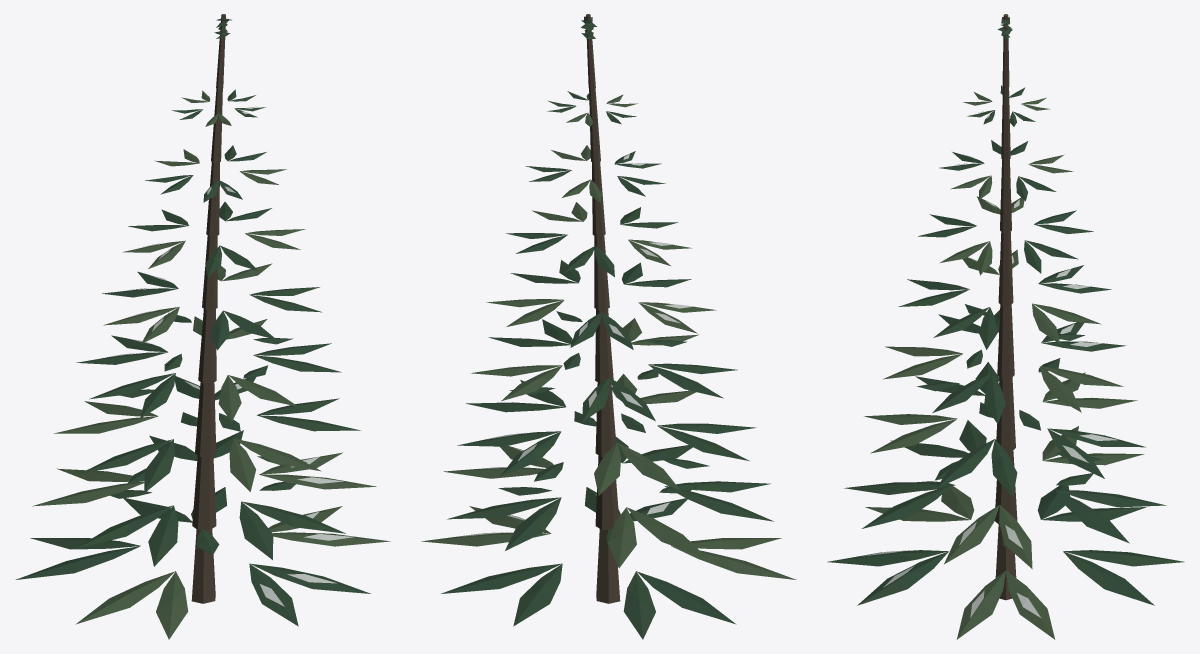
The model's file is spruce_coastal_lod.glb.
3 views of the same model, side by side, from view 1: azimuth 30°, elevation 25°; view 2: azimuth 150°, elevation 25°; view 3: azimuth 270°, elevation 25° (orthographic).
Visible parts, largest first — view 1: spruce_coastal_lod; view 2: spruce_coastal_lod; view 3: spruce_coastal_lod.
Boxes of the visible parts, box(x1,y1,x2,y2) form: spruce_coastal_lod: box(15, 14, 390, 639); spruce_coastal_lod: box(421, 14, 796, 639); spruce_coastal_lod: box(827, 14, 1184, 639).
Bounding box in the file's own units: 2.22 × 3.81 × 2.11.
